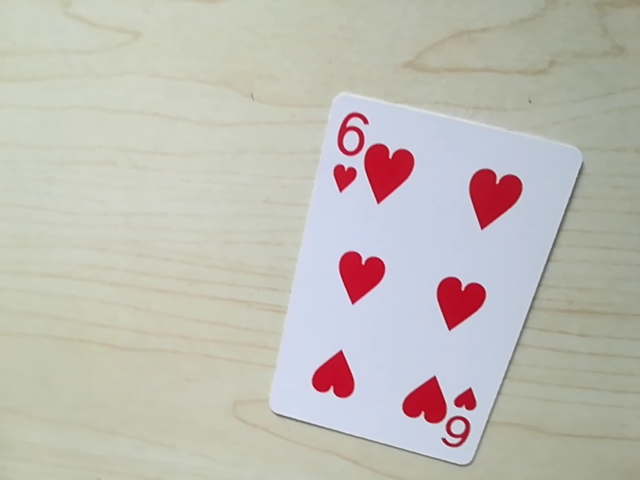hx 6: (330, 100, 362, 206), (440, 378, 477, 450)
